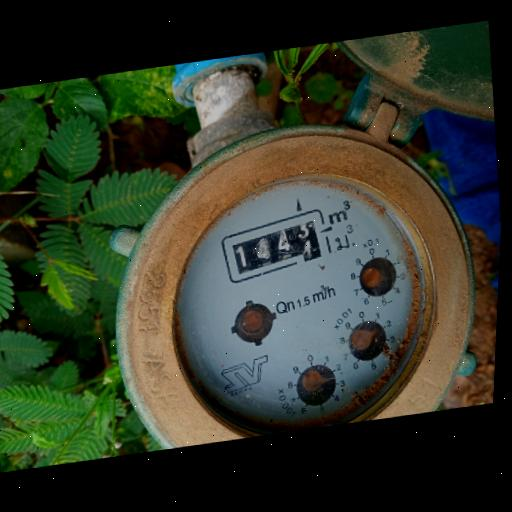1: (230, 241, 254, 276)
3: (292, 219, 322, 264)
4: (271, 226, 298, 262), (251, 233, 277, 269)
border_water_meter_number: (216, 203, 341, 287)
